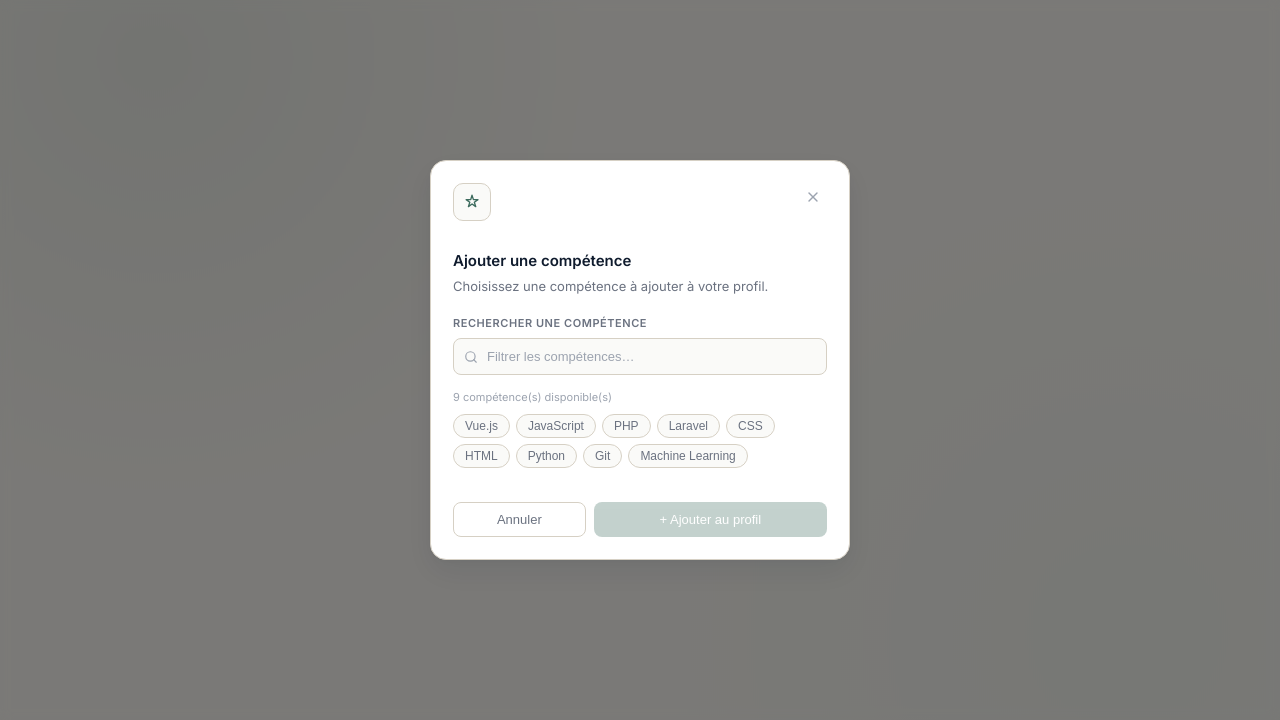
SkillModal.vue › État du bouton Ajouter › est activé quand une compétence est sélectionnée depuis la liste
This screenshot has width=1280, height=720.
Click the button with class "skill-tag-btn" showing "Vue.js": click(481, 426) [453, 414, 510, 438]
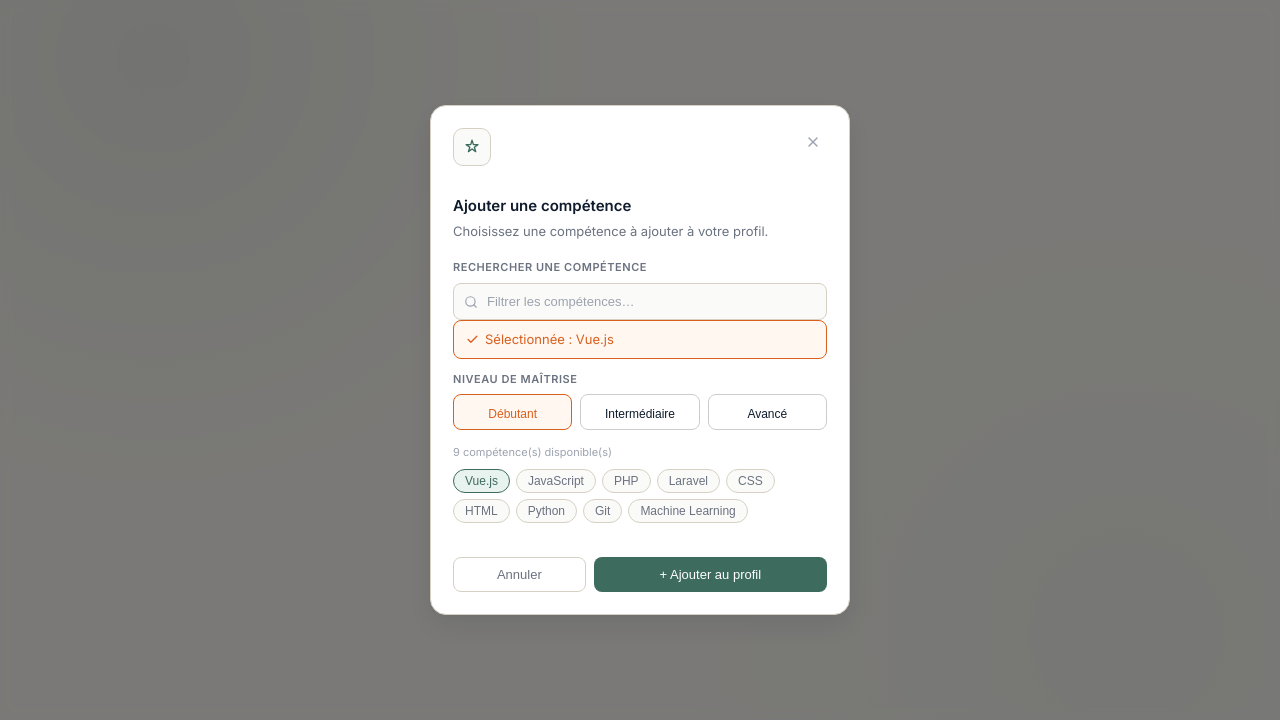
Now the button with class "skill-btn-submit" is enabled, box [594, 557, 827, 592]
